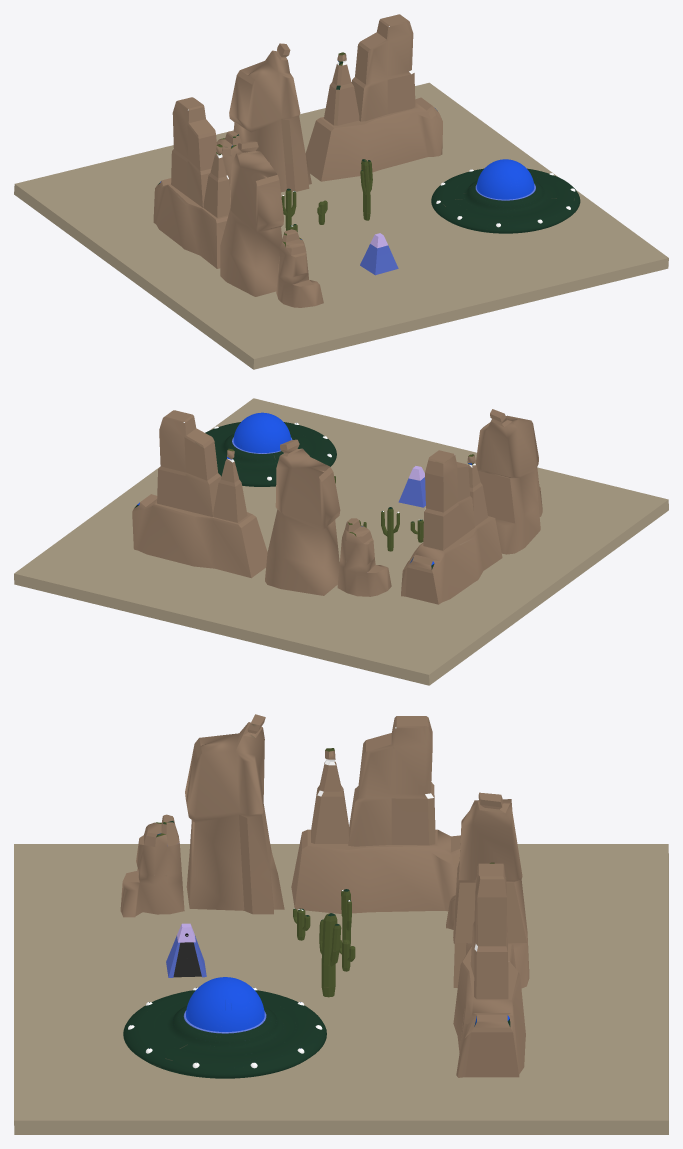
File: finalIter1.gltf
3 views of the same model, one above another, from view 1: azimuth 30°, elevation 25°; view 2: azimuth 150°, elevation 25°; view 3: azimuth 270°, elevation 25° (orthographic). The views are drawn at different scales.
Visible parts, largest first — view 1: Plane; view 2: Plane; view 3: Plane.
Part boxes in pixels (x1,y1,x2,y2): Plane: (14, 14, 668, 369); Plane: (14, 398, 668, 685); Plane: (14, 714, 668, 1134).
Size of the model in its own units: 23.36 by 7.86 by 23.35.
1 material, 1 textured.
